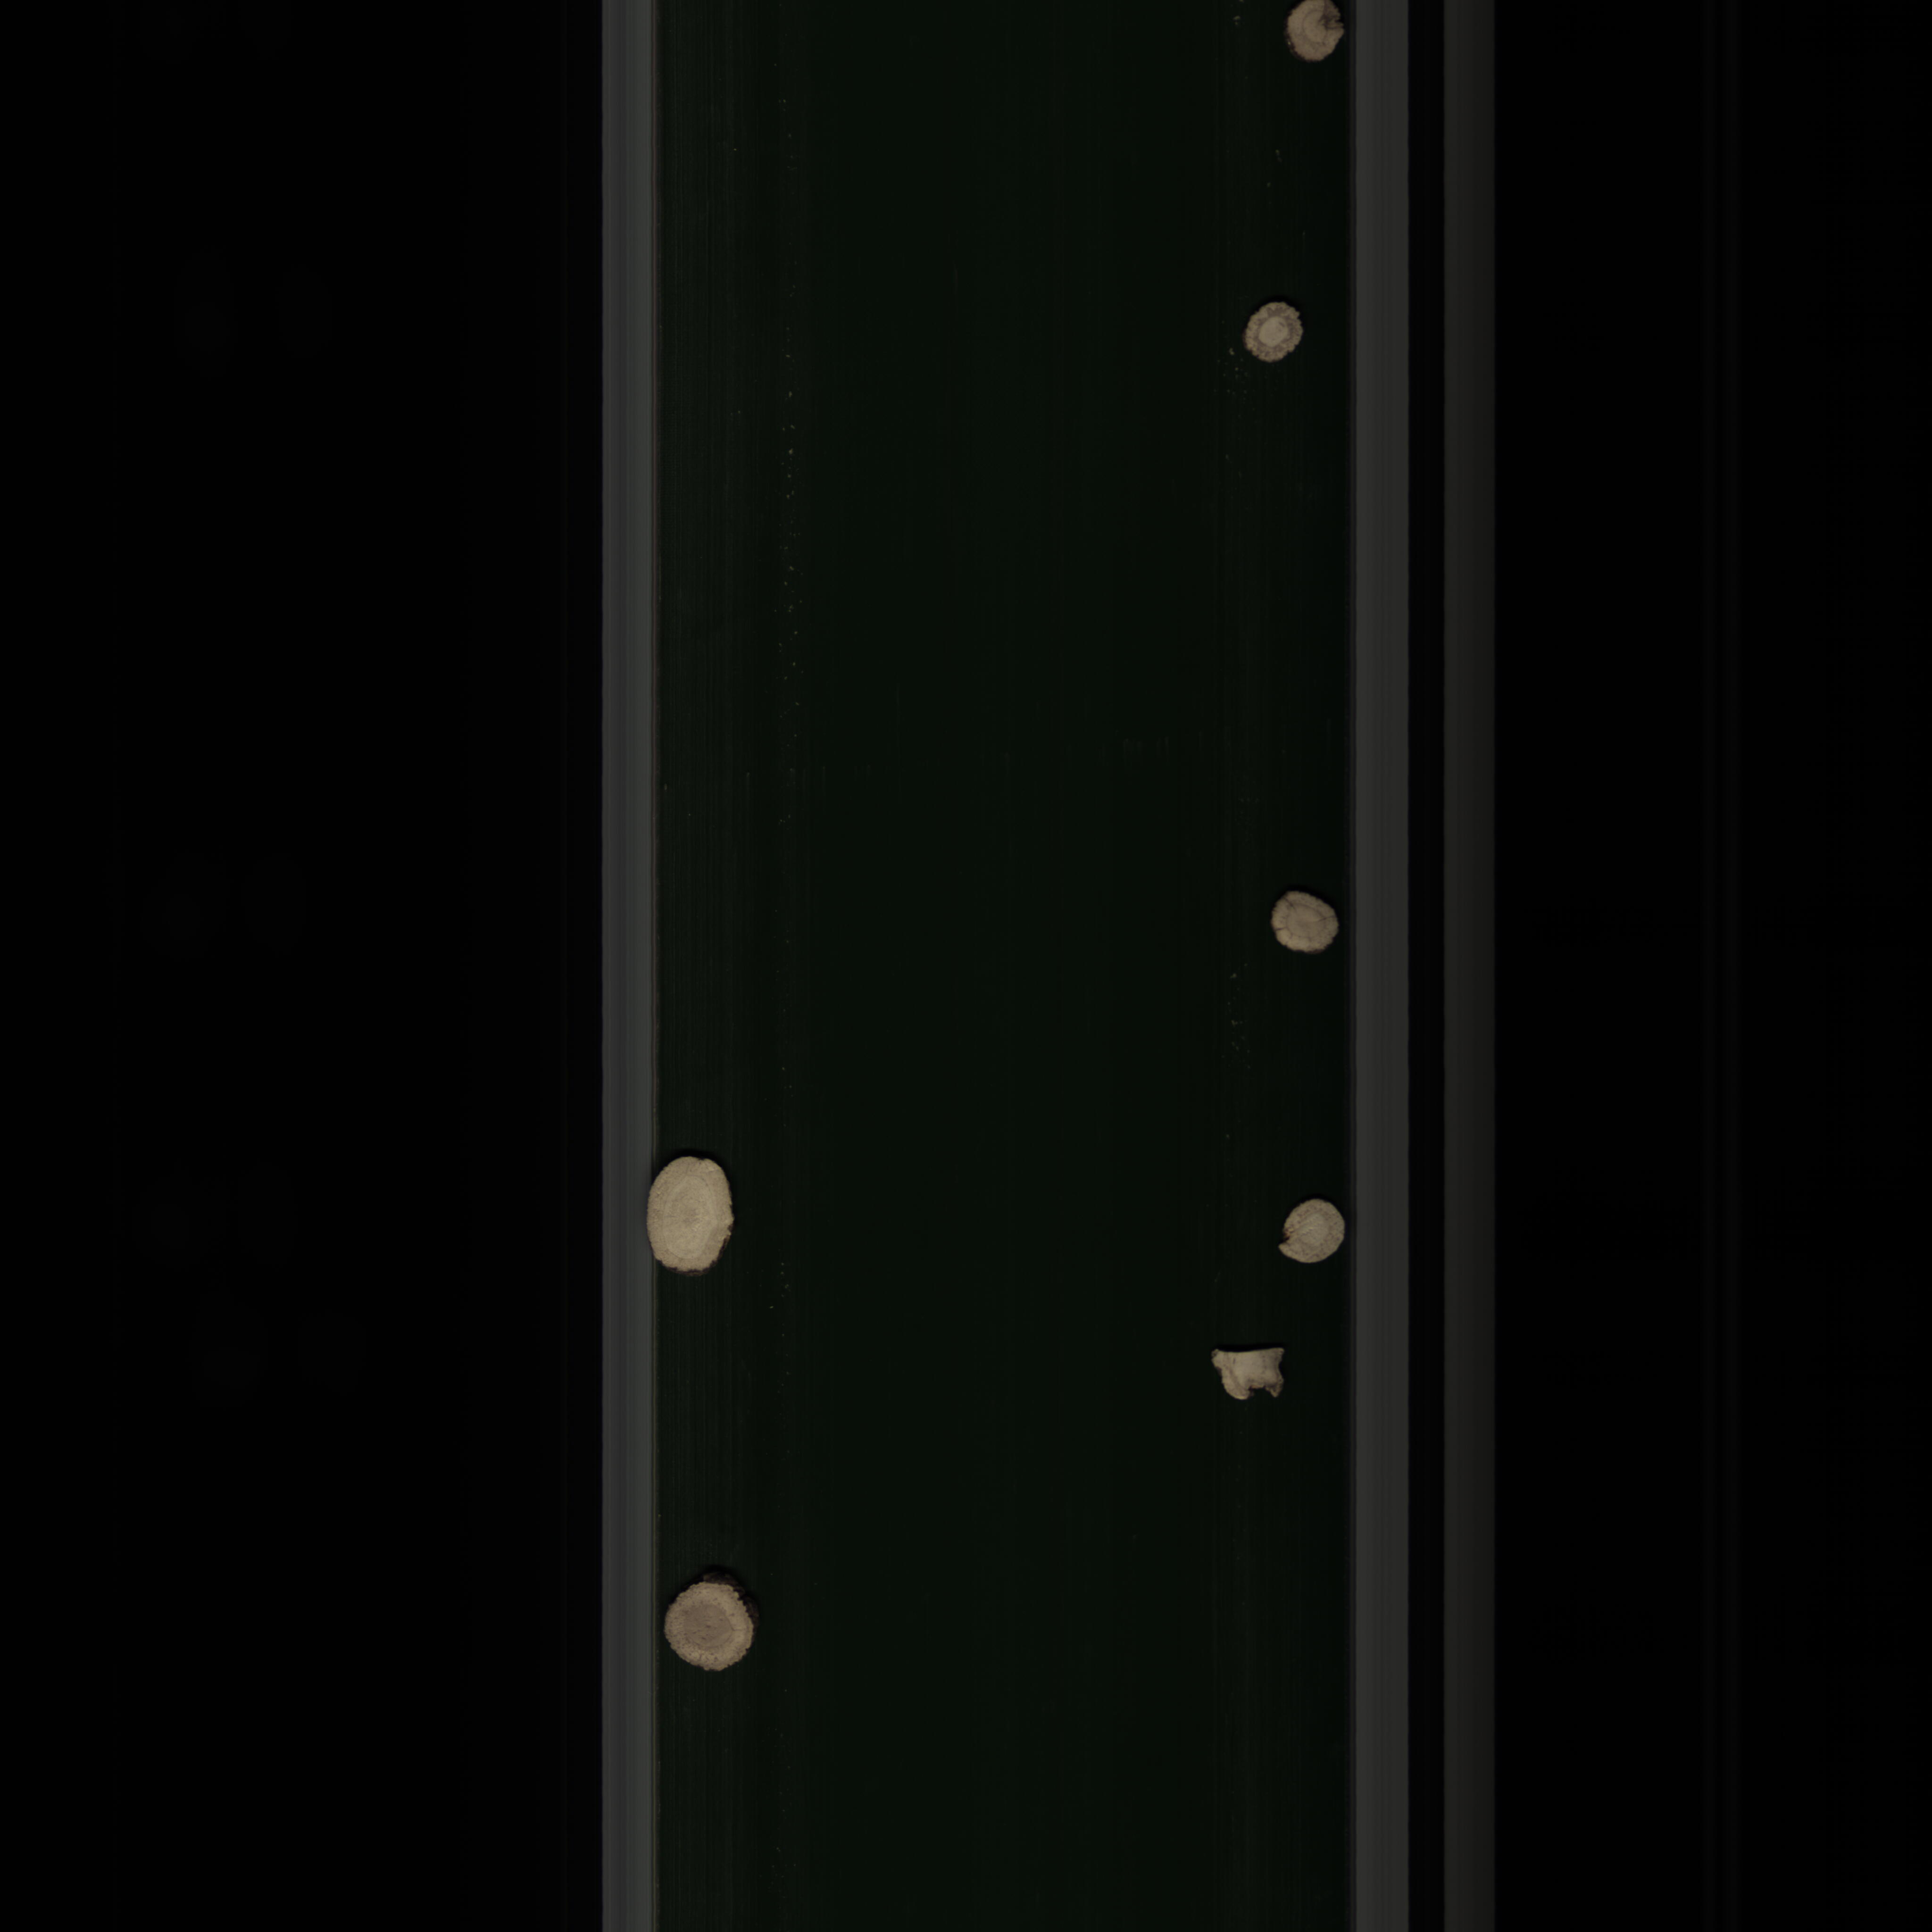debris: (1192, 1339, 1302, 1408)
moldy: (1283, 0, 1345, 65)
